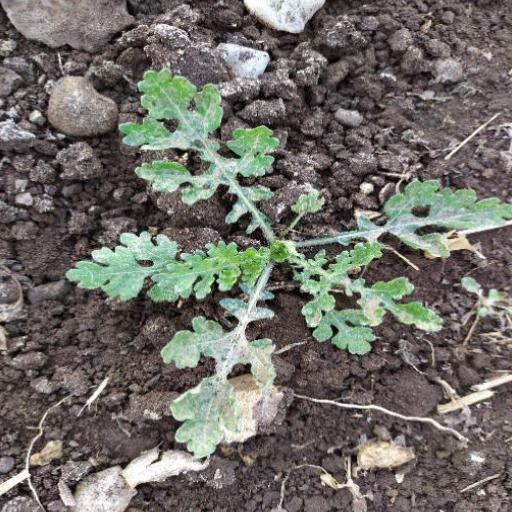weed: (65, 64, 512, 460)
